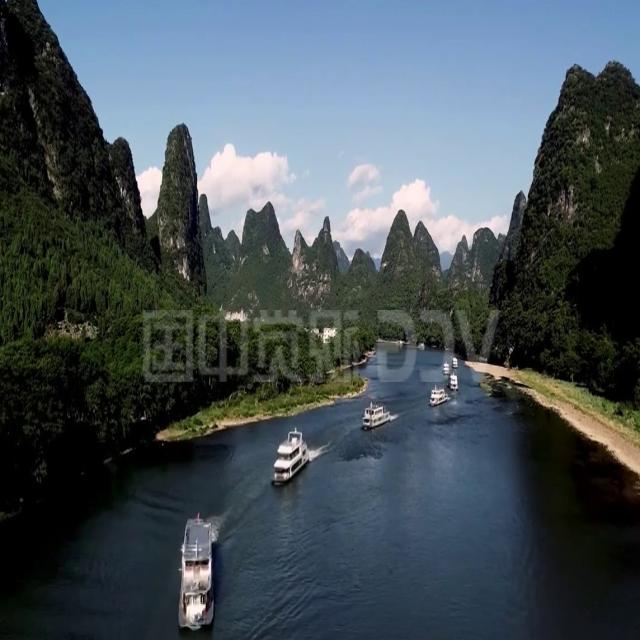passenger ship: (176, 504, 217, 630), (274, 424, 311, 489), (363, 399, 393, 430), (426, 386, 449, 404), (448, 372, 459, 392), (442, 363, 451, 373), (452, 354, 457, 366)
